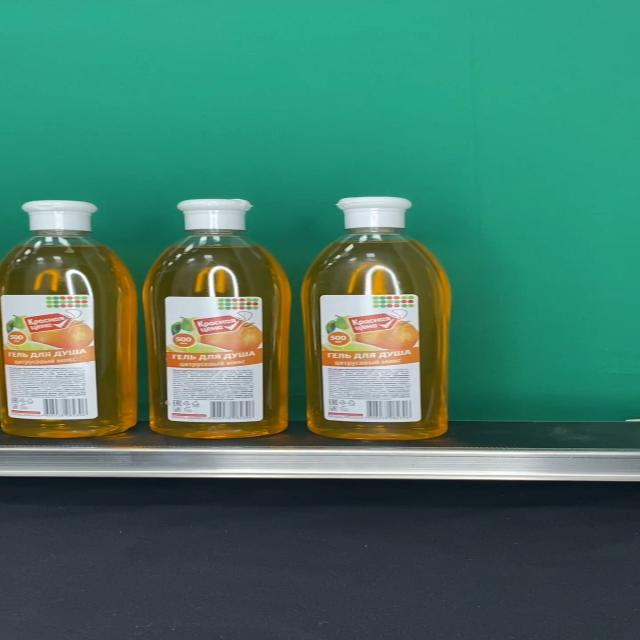Bottle: (300, 196, 451, 440), (143, 198, 292, 438), (0, 200, 138, 437)
Cap: (336, 196, 412, 229), (175, 198, 253, 230), (21, 200, 97, 232)
